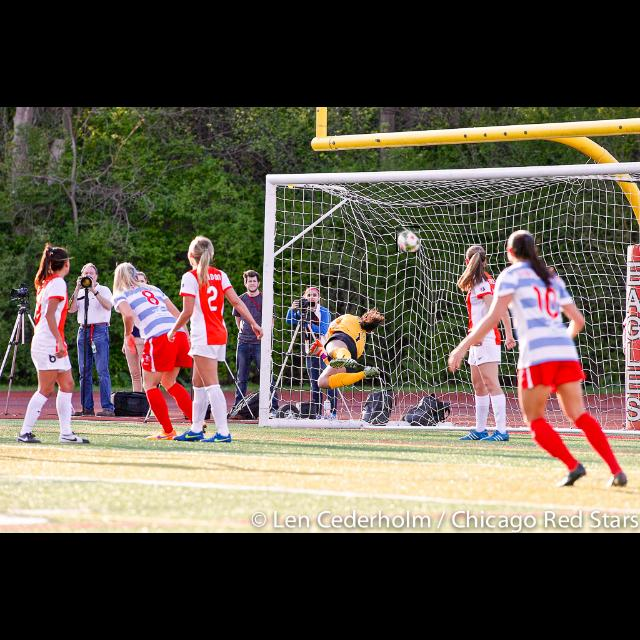Football: (396, 226, 420, 252)
